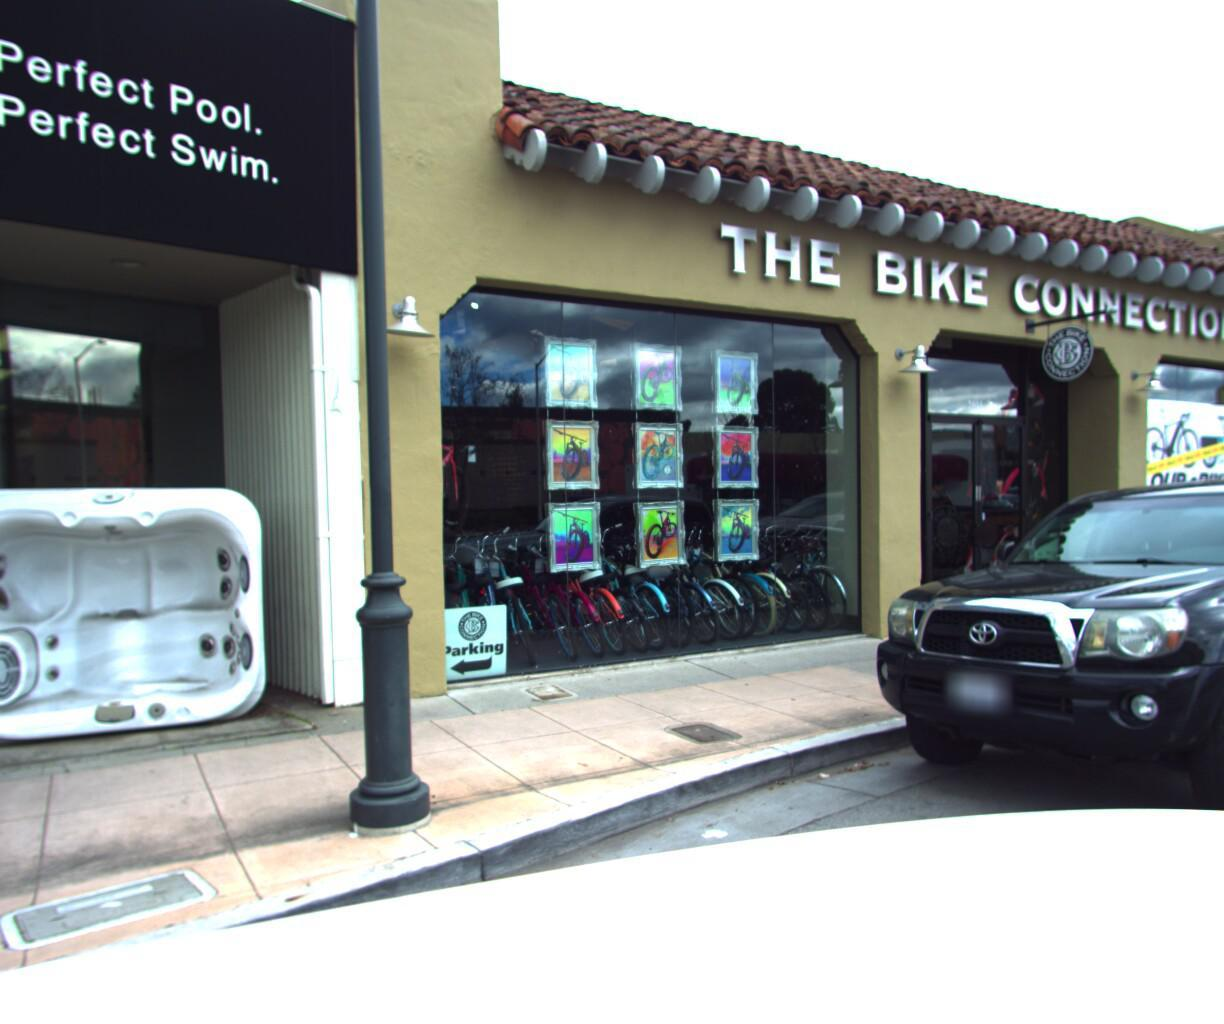car: (823, 433, 1224, 901)
